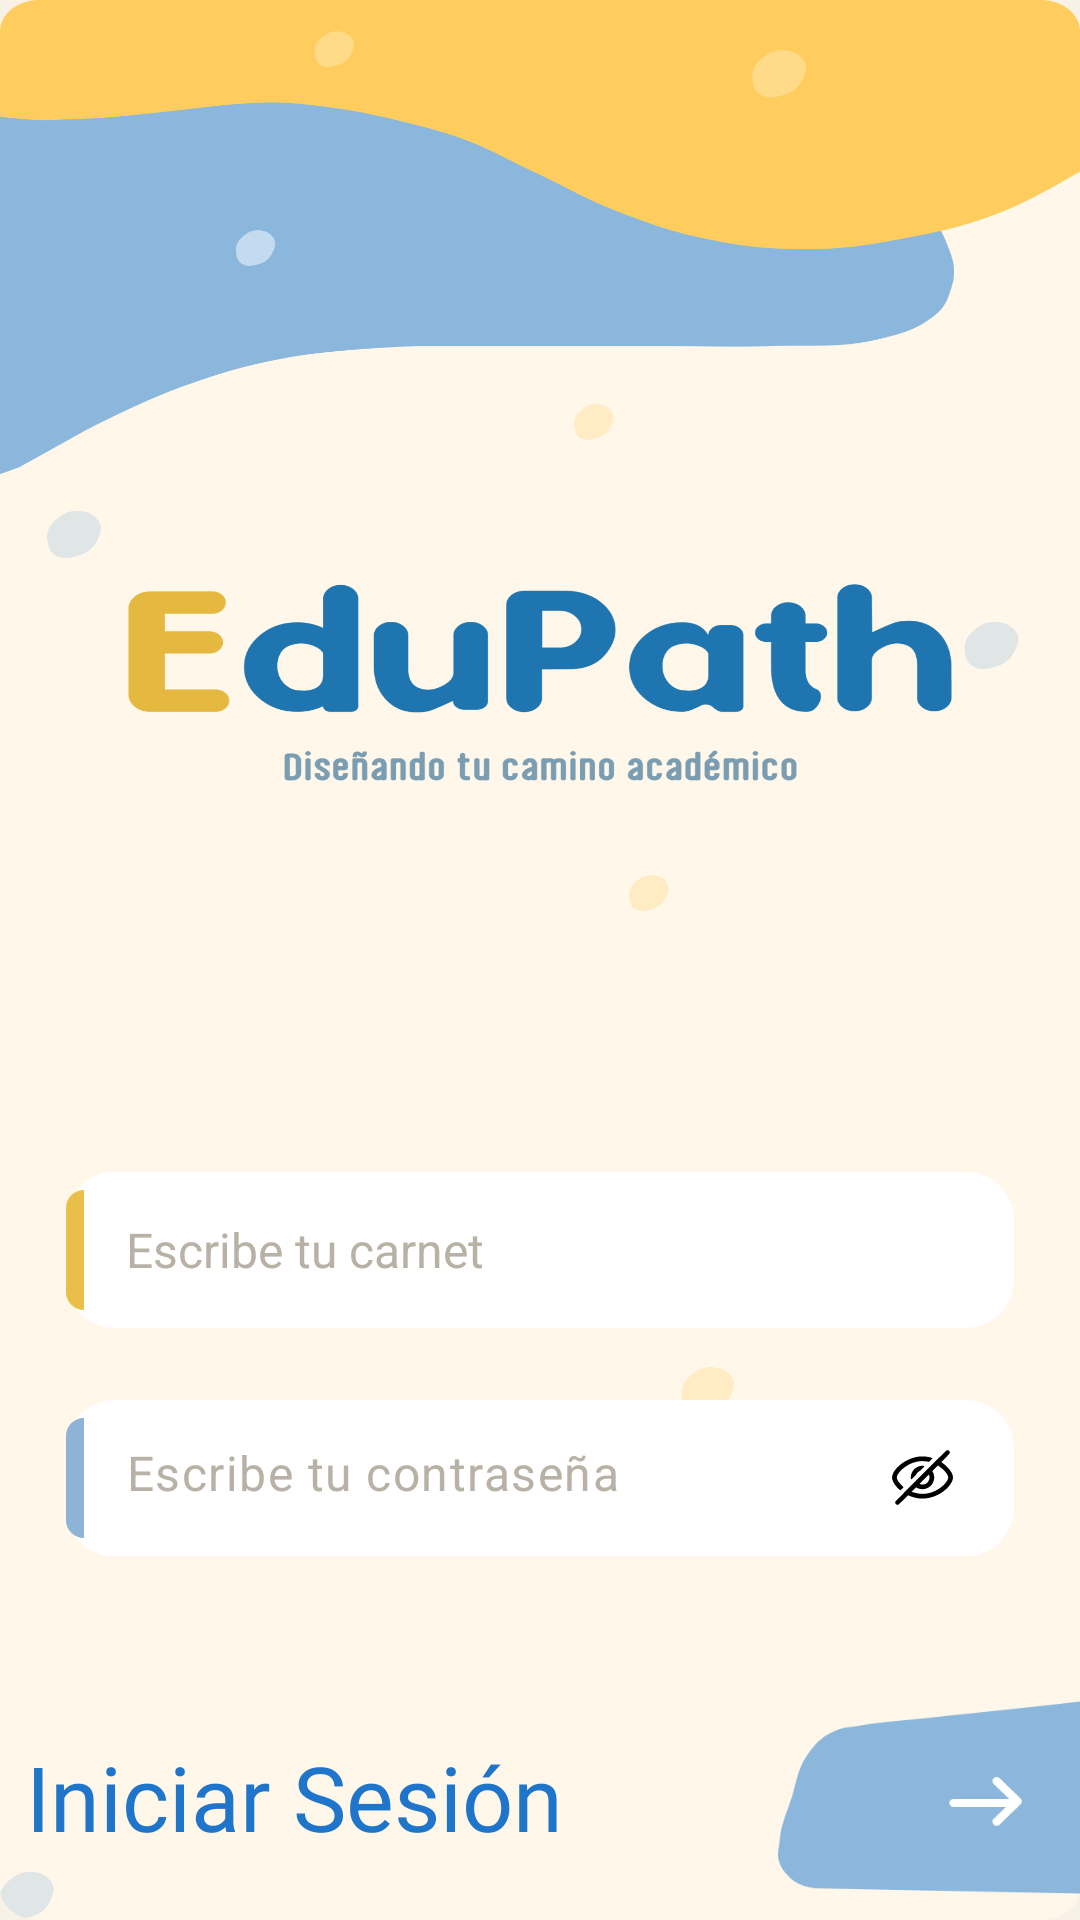

Icons on this 1080x1920 Android screen, each with the point to tap as [x,y]:
cerrado: [922,1477]
